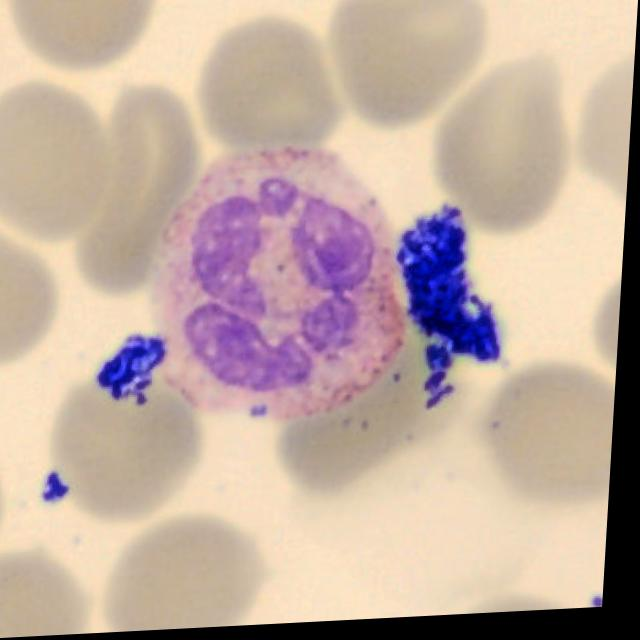Neutrofilo segmentado: (154, 149, 411, 421)
